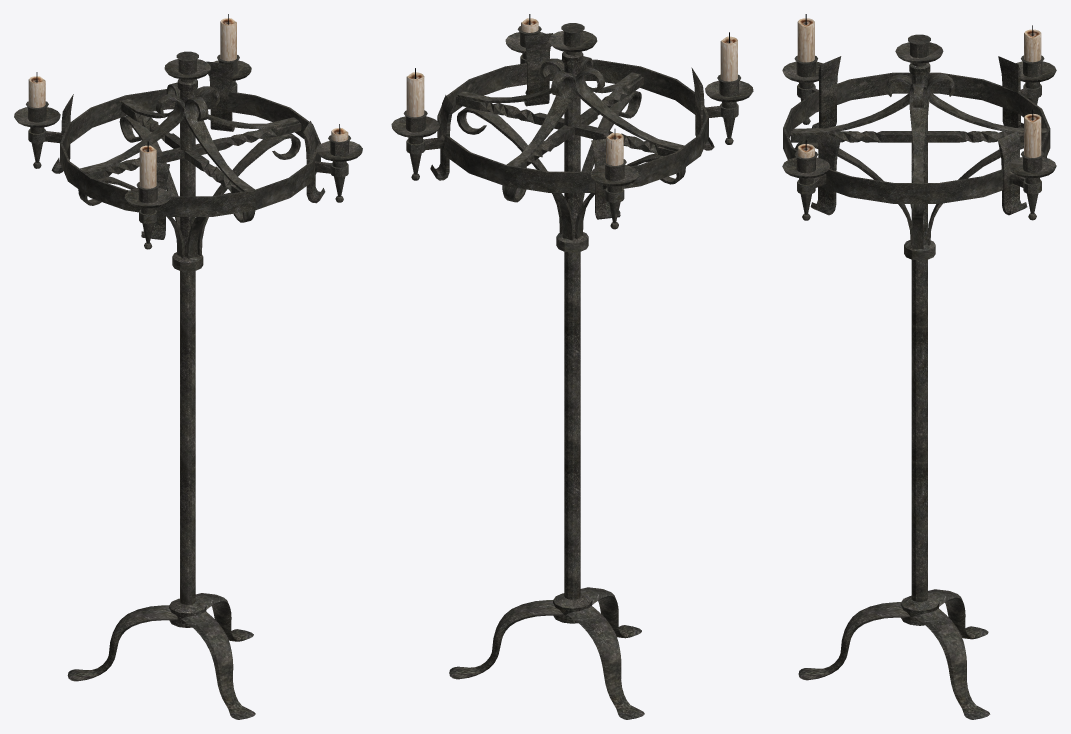
File: Candle 2.FBX
3 views of the same model, side by side, from view 1: azimuth 30°, elevation 25°; view 2: azimuth 150°, elevation 25°; view 3: azimuth 270°, elevation 25° (orthographic). The views are drawn at different scales.
Parts seen in each view (by area): view 1: Candles 2; view 2: Candles 2; view 3: Candles 2.
Boxes of the visible parts, left/top/right/bottom form: Candles 2: left=14, top=14, right=362, bottom=719; Candles 2: left=391, top=14, right=753, bottom=719; Candles 2: left=782, top=14, right=1056, bottom=719.
Bounding box in the file's own units: 63.26 × 161 × 63.02.
2 materials, 2 textured.
